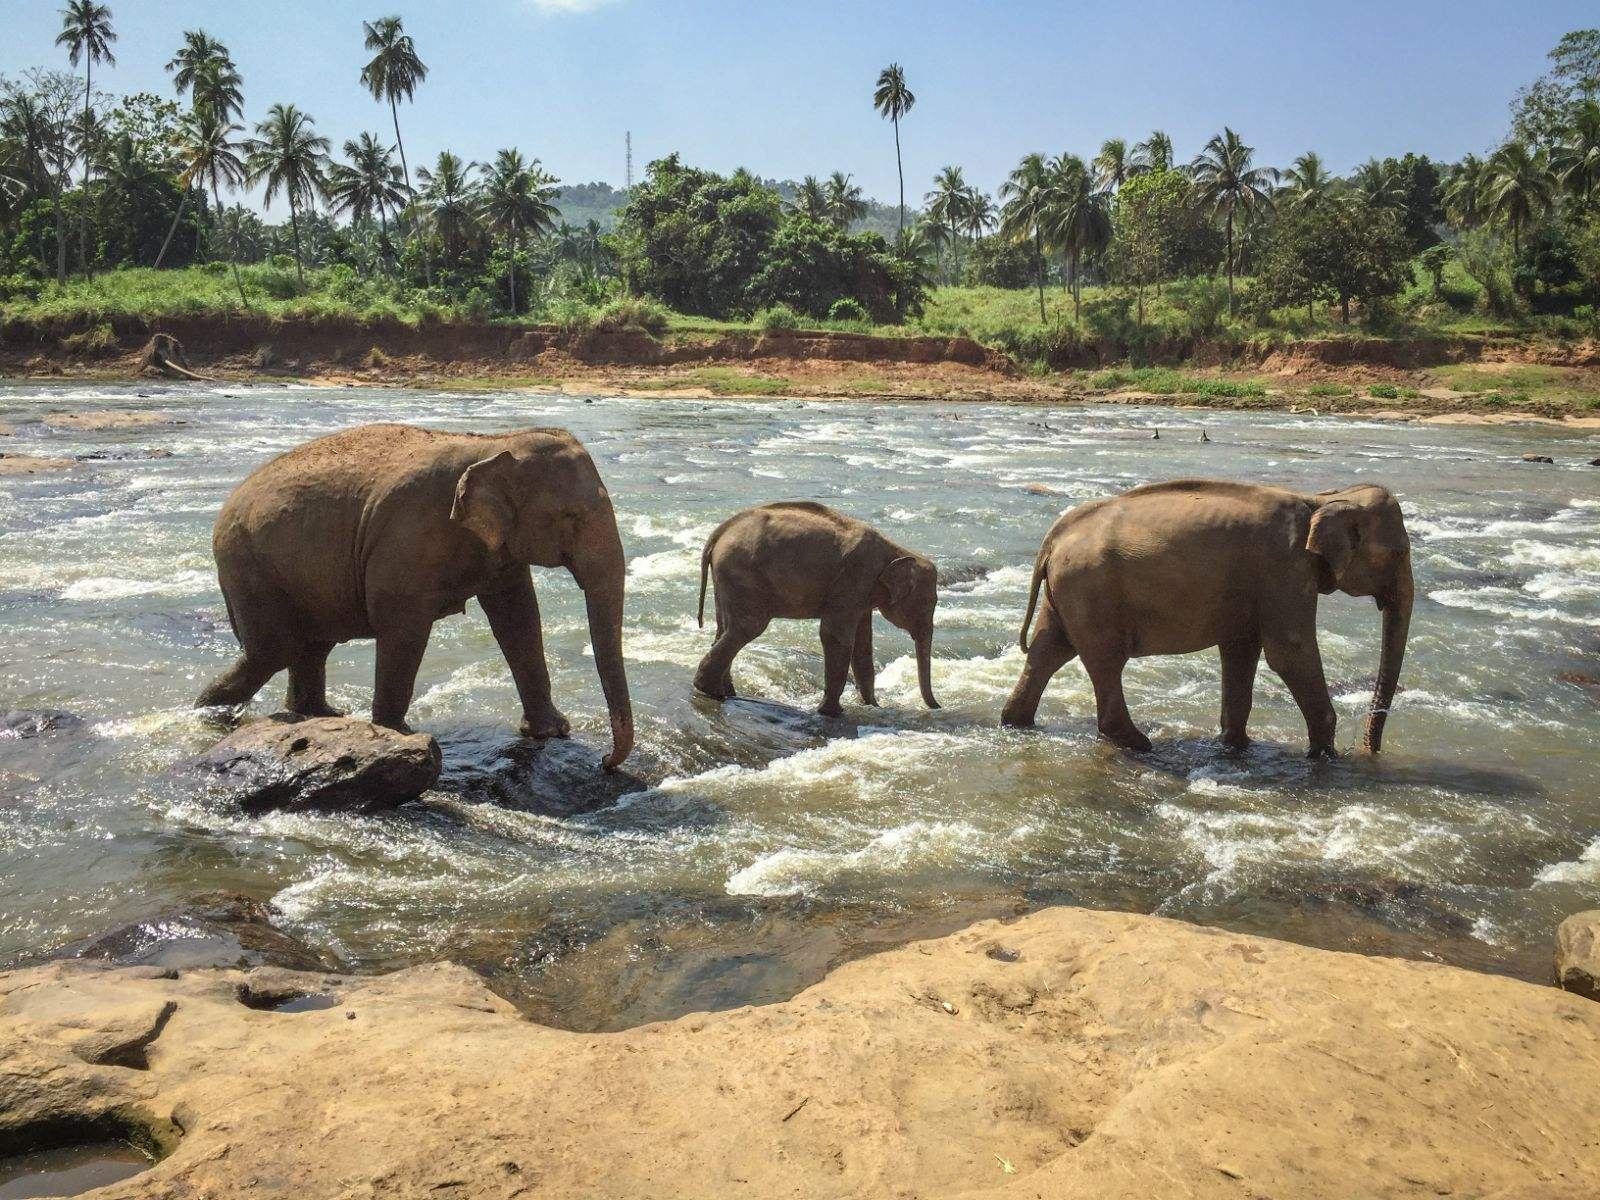elephant: (205, 420, 636, 769), (1003, 479, 1420, 758), (687, 495, 950, 722)
